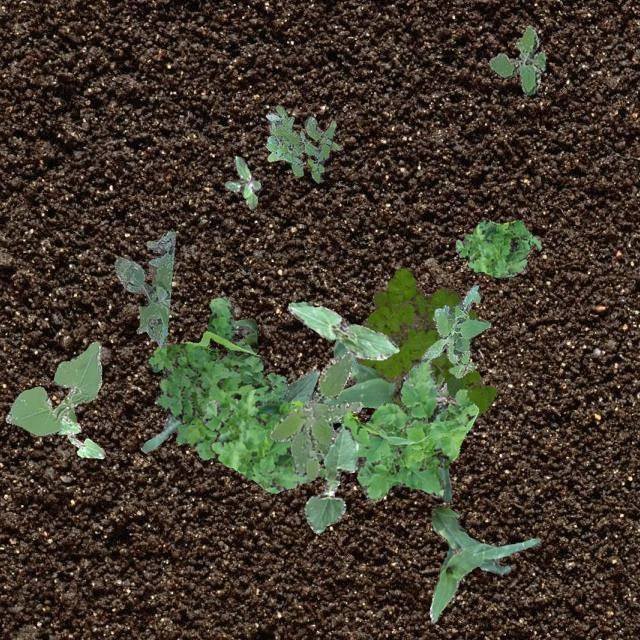crop: (321, 338, 452, 500), (140, 318, 256, 452), (428, 506, 540, 622), (5, 340, 100, 436), (286, 301, 398, 358), (304, 426, 356, 532), (56, 414, 104, 458), (280, 368, 318, 406)
weed: (148, 296, 326, 478), (354, 266, 496, 416), (340, 358, 478, 502), (268, 350, 362, 480), (202, 384, 310, 492), (114, 230, 174, 348), (420, 284, 490, 376), (264, 105, 342, 182), (454, 218, 540, 276), (488, 24, 544, 94), (223, 156, 260, 208)
